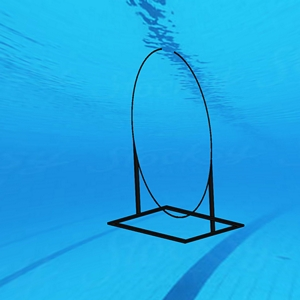circle: (104, 47, 248, 245)
